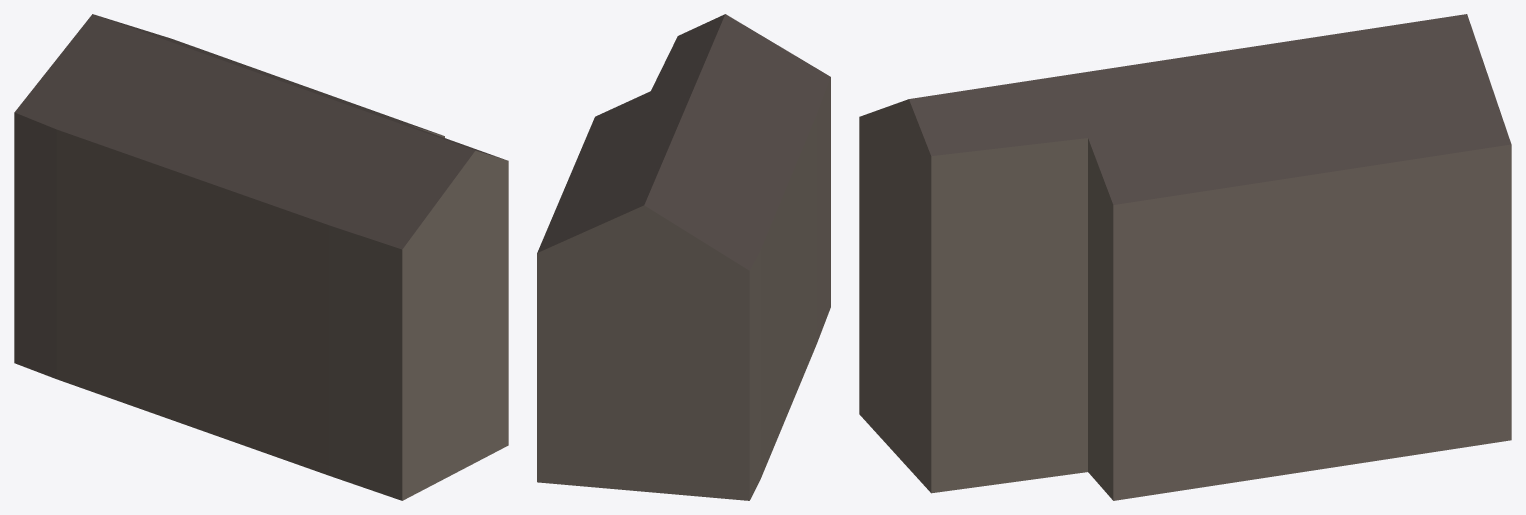
3 renders of one model, left to right at view 1: azimuth 30°, elevation 25°; view 2: azimuth 150°, elevation 25°; view 3: azimuth 270°, elevation 25°, orthographic. The views are drawn at different scales.
Parts seen in each view (by area): view 1: HP-w1198645073; view 2: HP-w1198645073; view 3: HP-w1198645073.
Boxes of the visible parts, box(x1,y1,x2,y2) form: HP-w1198645073: box(14, 14, 508, 500); HP-w1198645073: box(537, 14, 830, 500); HP-w1198645073: box(859, 14, 1511, 500).
Size of the model in its own units: 7.53 by 7.5 by 11.99.
